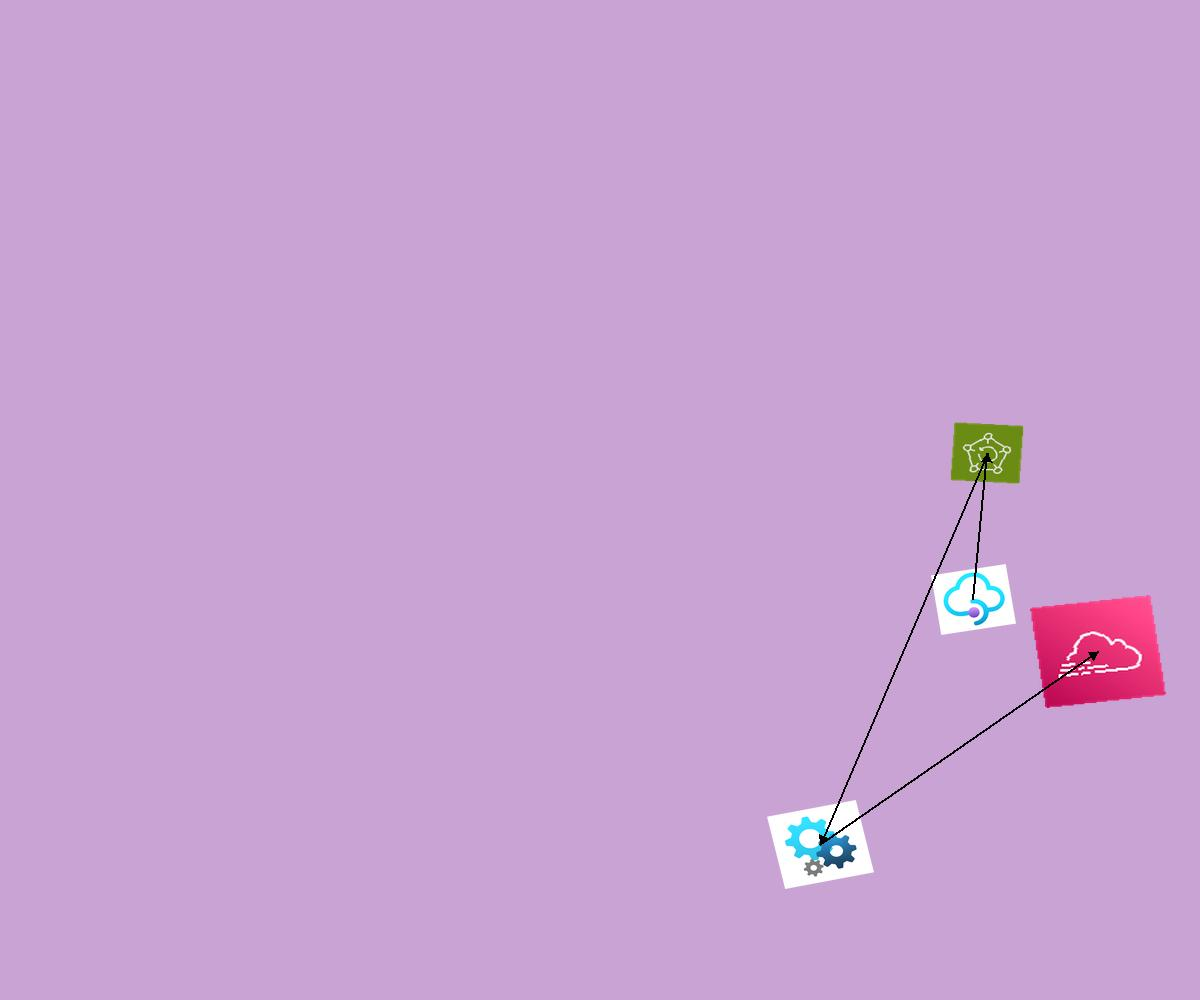AWS-Backup: (950, 422, 1024, 484)
AWS-CloudTrail: (1030, 595, 1166, 708)
Azure_api: (767, 800, 874, 889)
Azure_api_gateway: (931, 564, 1016, 635)
